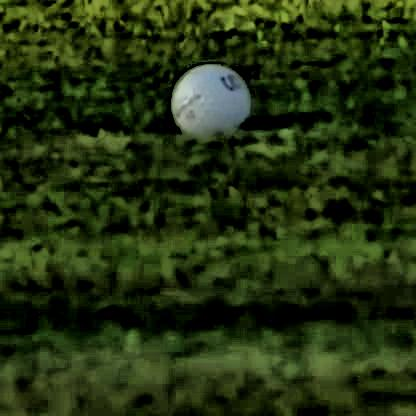golfball: (165, 60, 248, 140)
